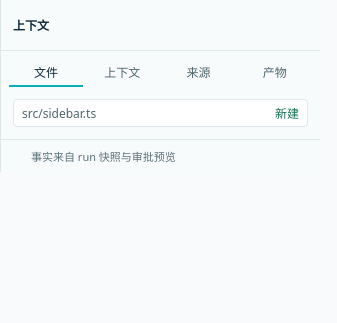
Test case: ContextDrawer › Context：run 元信息与权限语义
Click the tab with test id "context-tab-context" at (122, 73), box [85,59,160,87]
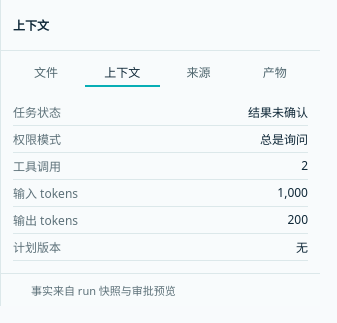
Expected: the element with test id "context-pane-context" shows "结果未确认", [248,104,308,121]
Expected: the element with test id "context-pane-context" shows "总是询问", [260,131,308,148]
Expected: the element with test id "context-pane-context" shows "1,000", [277,184,308,201]
